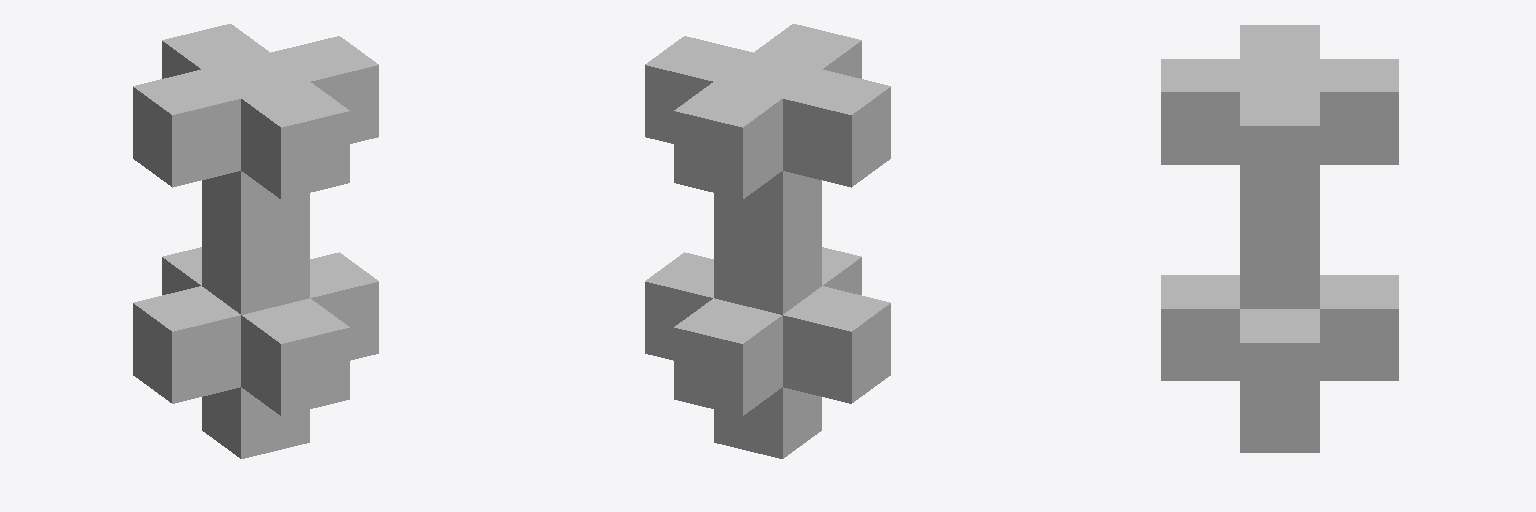
Rendered from (8) Orange FlowerCup (Stage 6).obj.
3 views of the same model, side by side, from view 1: azimuth 30°, elevation 25°; view 2: azimuth 150°, elevation 25°; view 3: azimuth 270°, elevation 25° (orthographic).
Parts seen in each view (by area): view 1: object 1; view 2: object 1; view 3: object 1.
Part boxes in pixels (left/top/right/bottom): object 1: left=133, top=24, right=378, bottom=458; object 1: left=645, top=24, right=890, bottom=458; object 1: left=1161, top=25, right=1398, bottom=452.
Size of the model in its own units: 0.3 by 0.5 by 0.3.